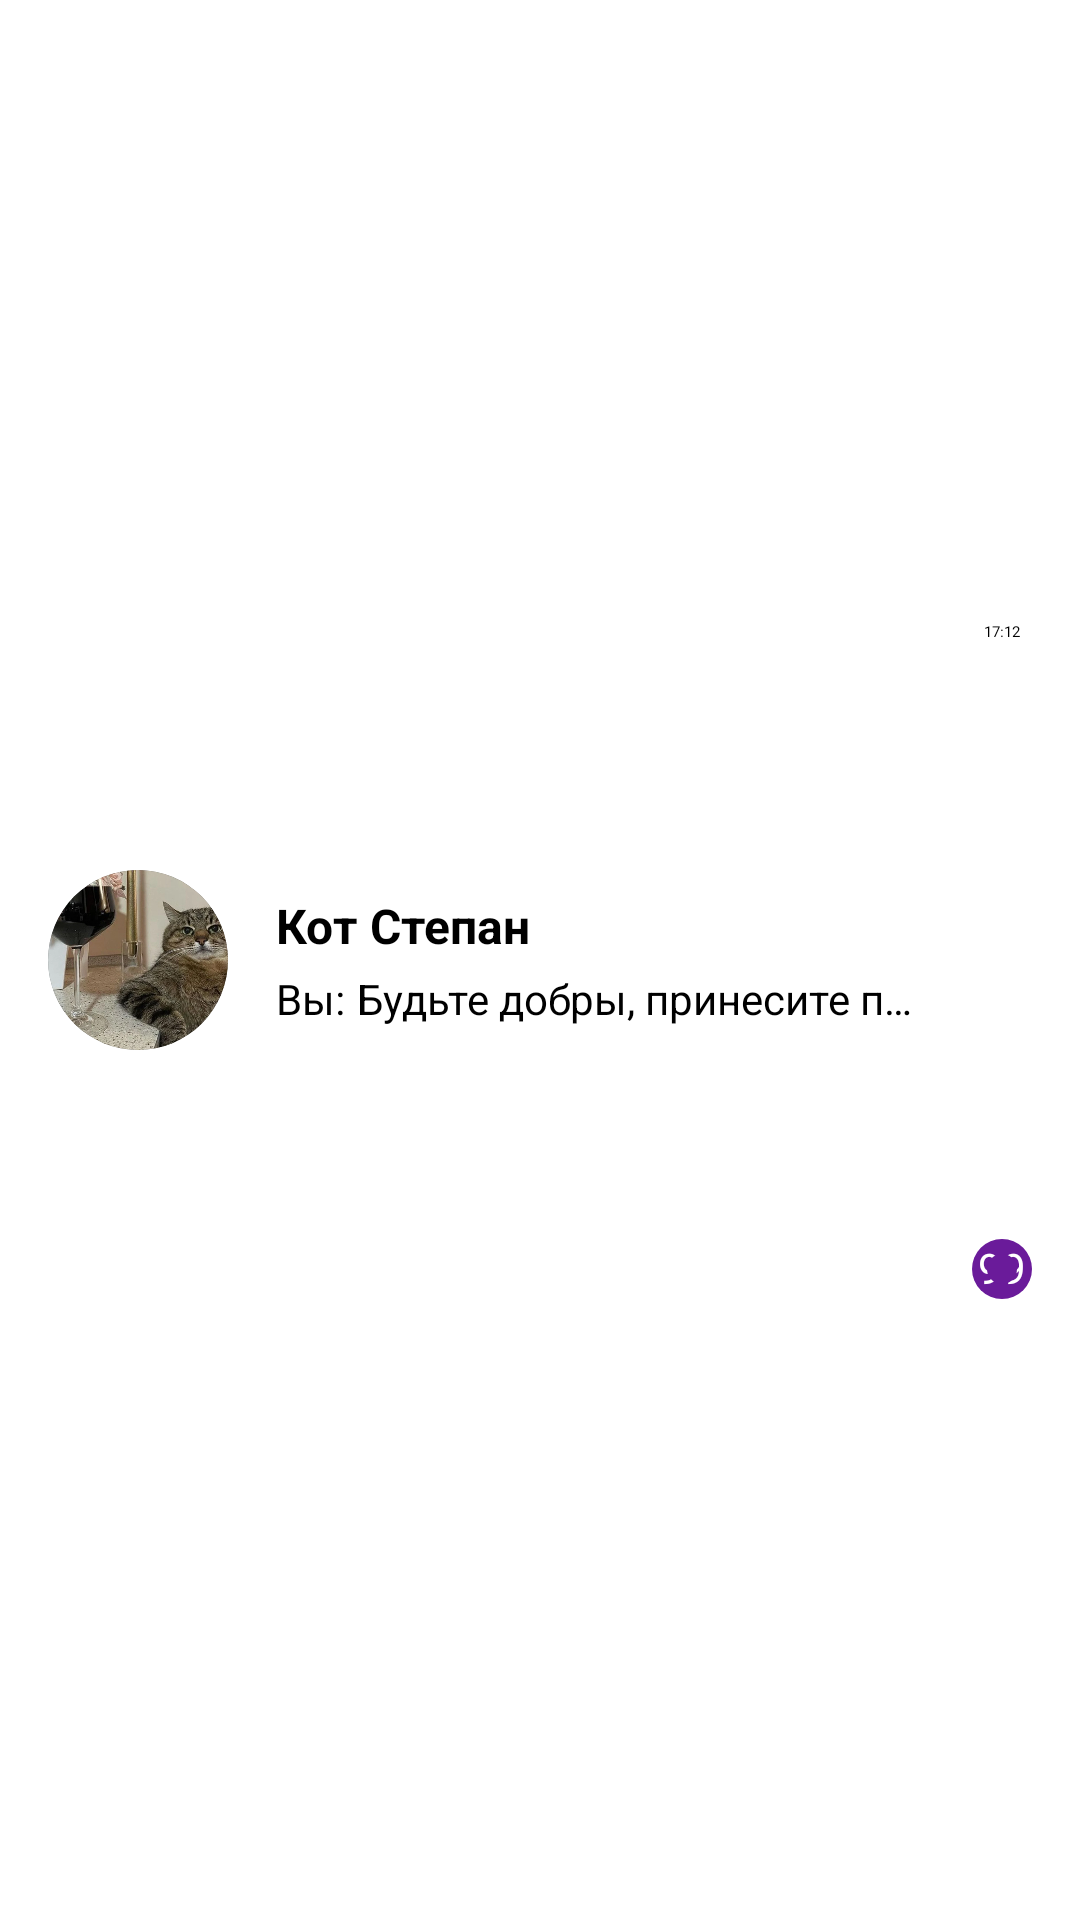

Icons on this 1080px x 1920px Android screen, each with the point to tap as (x=x, y=y):
kotkot: (x=138, y=960)
